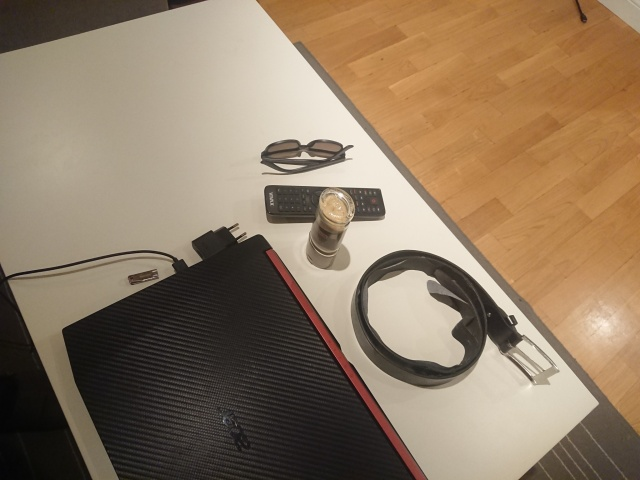Kotanyi Garlic Granules 70g: (304, 185, 357, 271)
